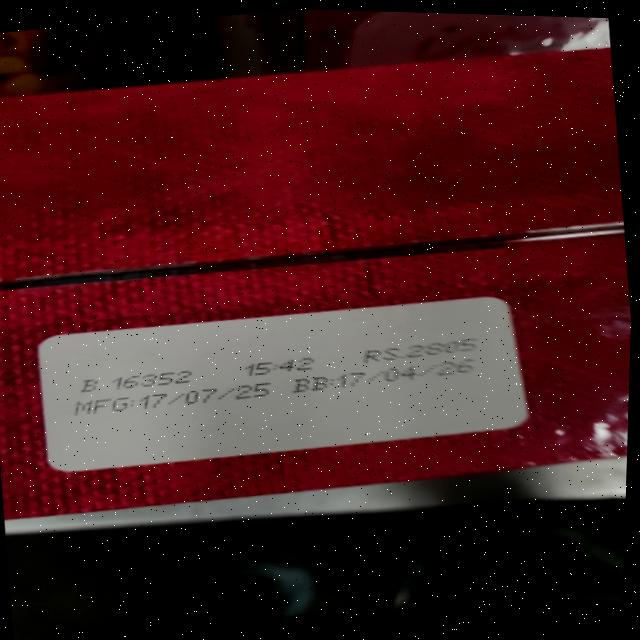BB: (292, 352, 480, 401)
Batch: (75, 366, 198, 396)
MFG: (70, 372, 275, 422)
RS: (360, 333, 486, 367)
TimeStamp: (240, 354, 320, 379)
